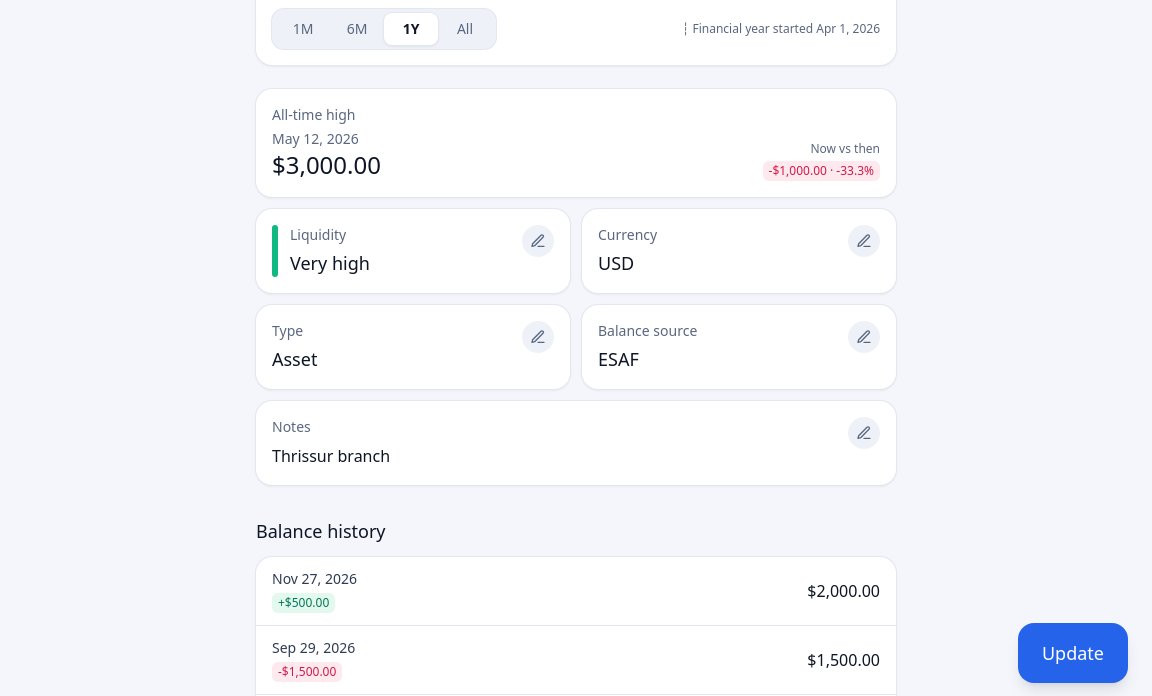
AccountDetailsPage › changes the type and flips existing balances (pre-ticked when they used the default sign)
This screenshot has width=1152, height=696.
(page scrolled)
Step 1. Click the button with aria-label "Edit type" → (288, 330), box x1=256 y1=305 x2=570 y2=389
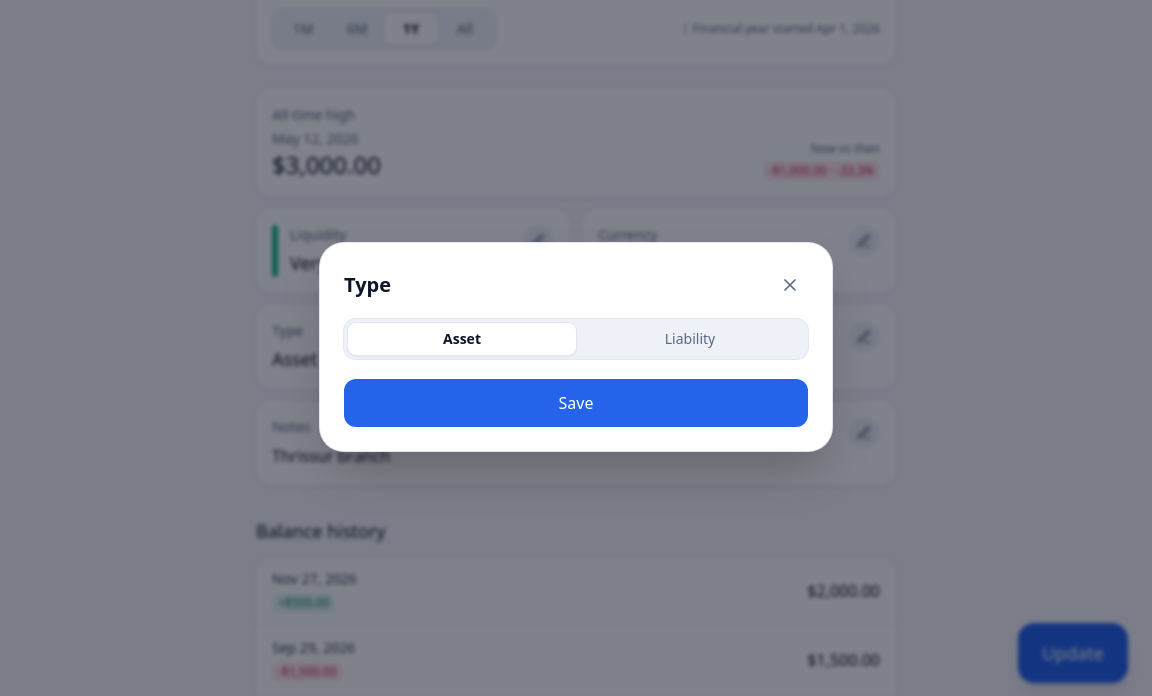
Step 2. Click the radio button labelled "Liability" → (690, 339), box x1=576 y1=323 x2=804 y2=355
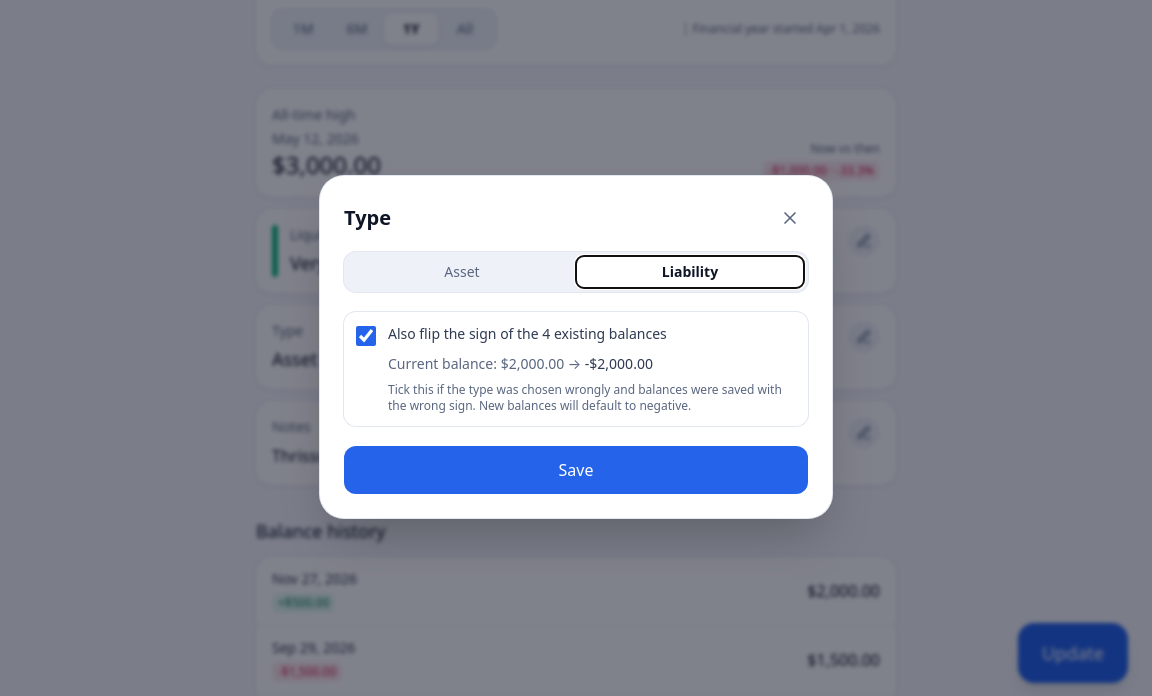
Expected: the checkbox labelled "Also flip the sign of the 4 existing balances" is checked, x1=356 y1=326 x2=376 y2=346
Expected: the text "Current balance: $2,000.00 → -$2,000.00" is shown, x1=388 y1=354 x2=653 y2=373
Step 3. Click the button "Save" → (576, 470), box x1=344 y1=446 x2=808 y2=494
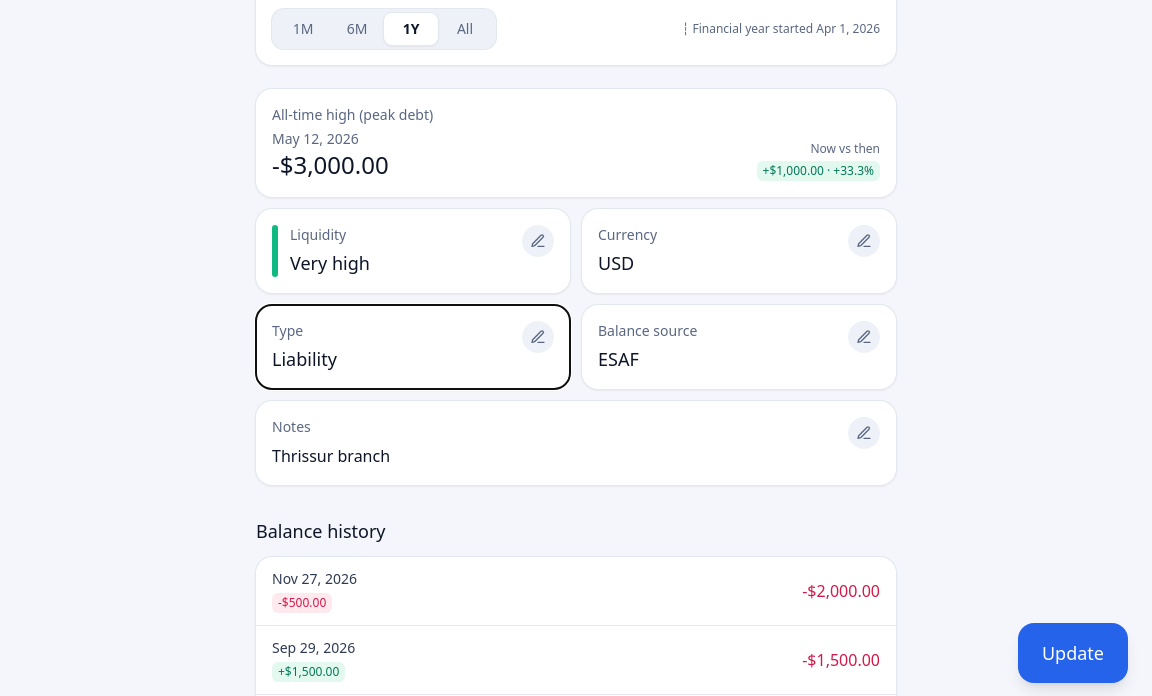
Expected: the button with aria-label "Edit type" shows "Liability", x1=256 y1=305 x2=570 y2=389
Expected: the text "All-time high (peak debt)" is shown, x1=272 y1=105 x2=433 y2=124
